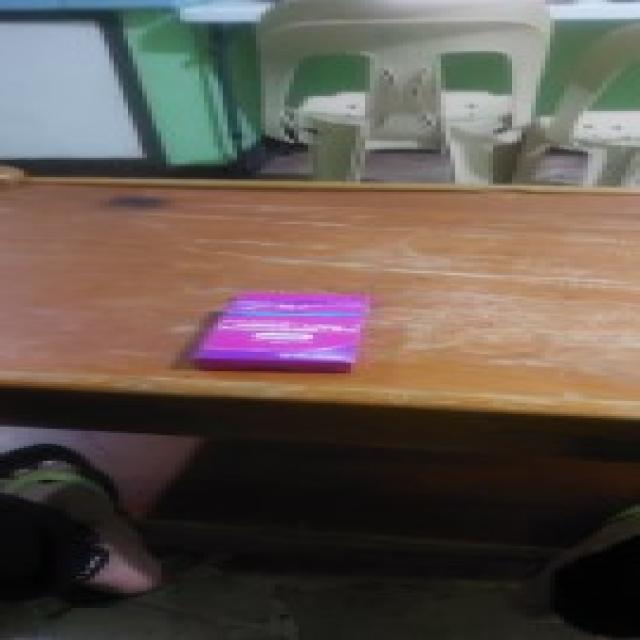Cacat: (202, 292, 368, 370)
